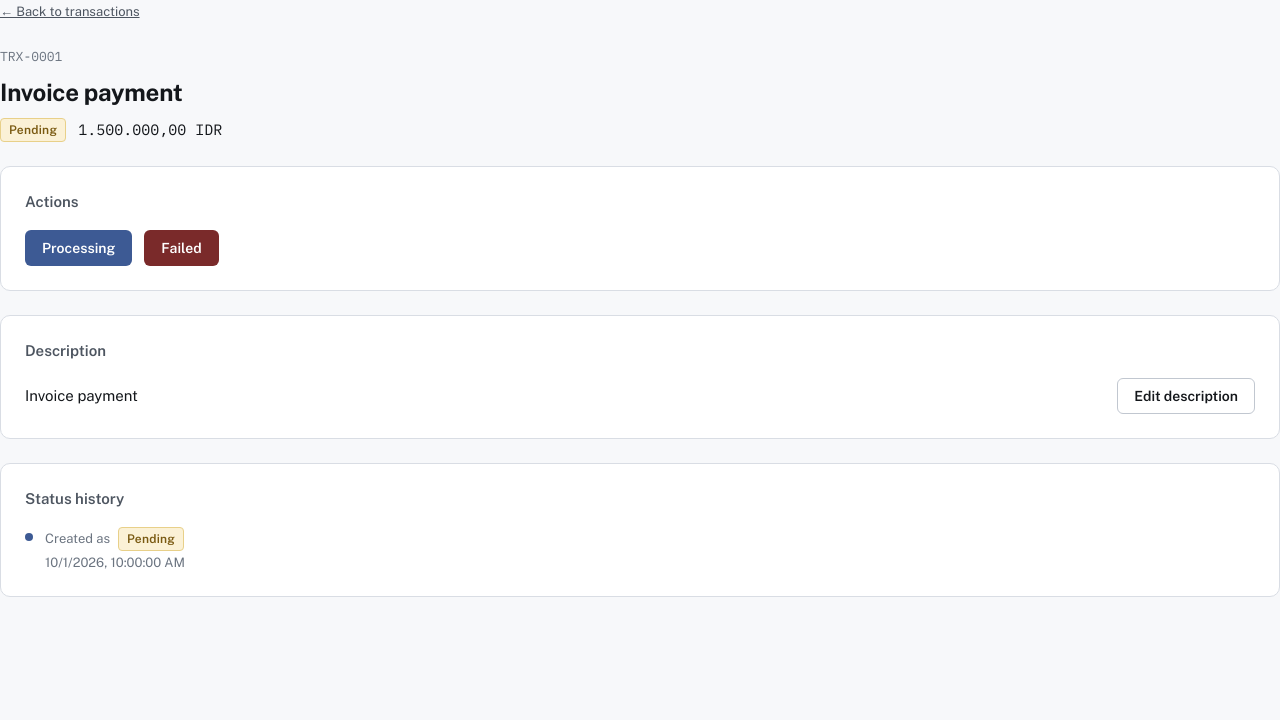
Test: TransactionDetail — transitions › offers only permitted transitions and confirms before a terminal move
Expected: the button "Processing" is shown, x1=25 y1=230 x2=132 y2=266
Click the button "Failed" at (181, 248), box x1=144 y1=230 x2=219 y2=266
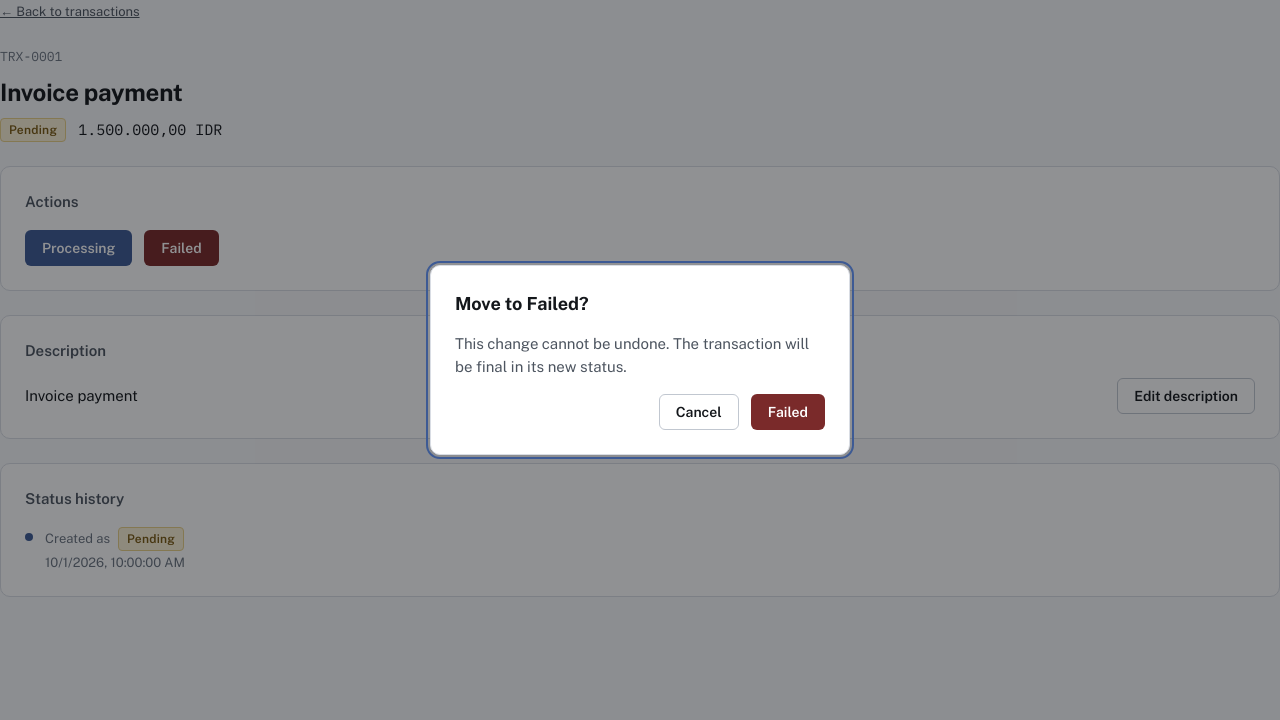
Expected: the dialog shows "cannot be undone", x1=455 y1=335 x2=809 y2=374
